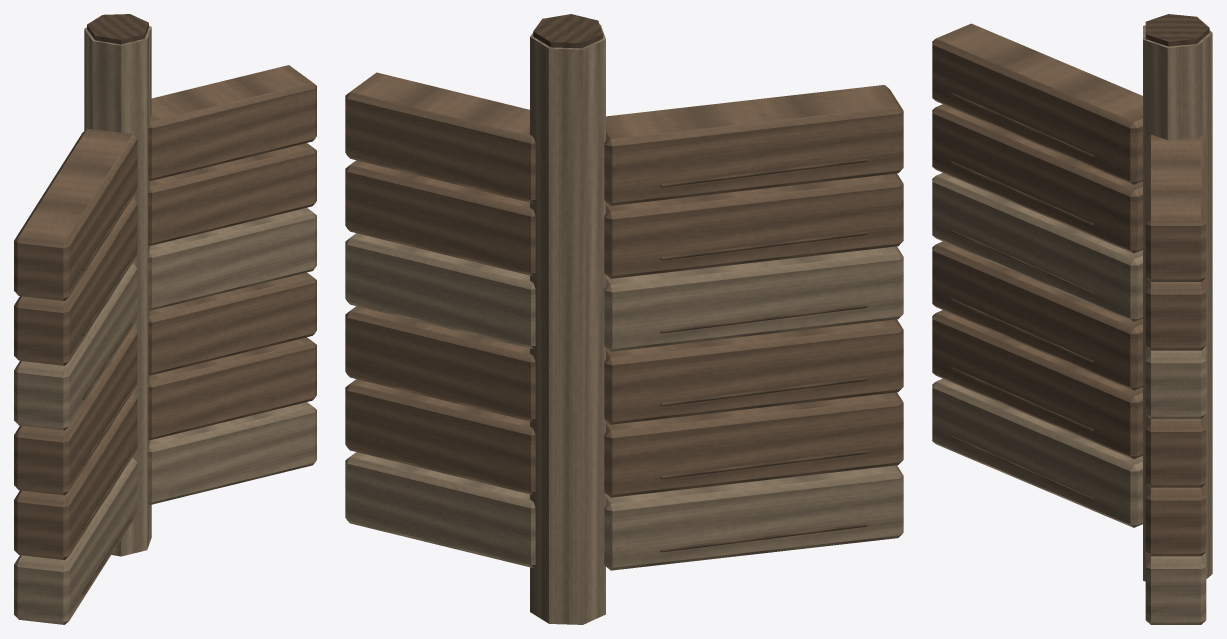
The model's file is wall_mask_132.glb.
The picture shows the model from 3 angles, left to right: view 1: azimuth 30°, elevation 25°; view 2: azimuth 150°, elevation 25°; view 3: azimuth 270°, elevation 25°; orthographic projection. The views are drawn at different scales.
Parts seen in each view (by area): view 1: wall_mask_132__Weathered_timber, wall_mask_132__Timber_worn_edges, wall_mask_132__Dark_endgrain; view 2: wall_mask_132__Weathered_timber, wall_mask_132__Timber_worn_edges, wall_mask_132__Dark_endgrain; view 3: wall_mask_132__Weathered_timber, wall_mask_132__Timber_worn_edges, wall_mask_132__Dark_endgrain.
Boxes of the visible parts, x1,y1,x2,y2 form: wall_mask_132__Weathered_timber: (14,65,316,560); wall_mask_132__Timber_worn_edges: (14,26,316,624); wall_mask_132__Dark_endgrain: (82,14,148,594); wall_mask_132__Weathered_timber: (345,72,903,497); wall_mask_132__Timber_worn_edges: (345,25,903,624); wall_mask_132__Dark_endgrain: (533,14,867,552); wall_mask_132__Weathered_timber: (932,23,1206,556); wall_mask_132__Timber_worn_edges: (932,25,1212,624); wall_mask_132__Dark_endgrain: (951,14,1209,500).
Size of the model in its own units: 1.09 by 1.39 by 0.6484.
3 materials, 3 textured.
